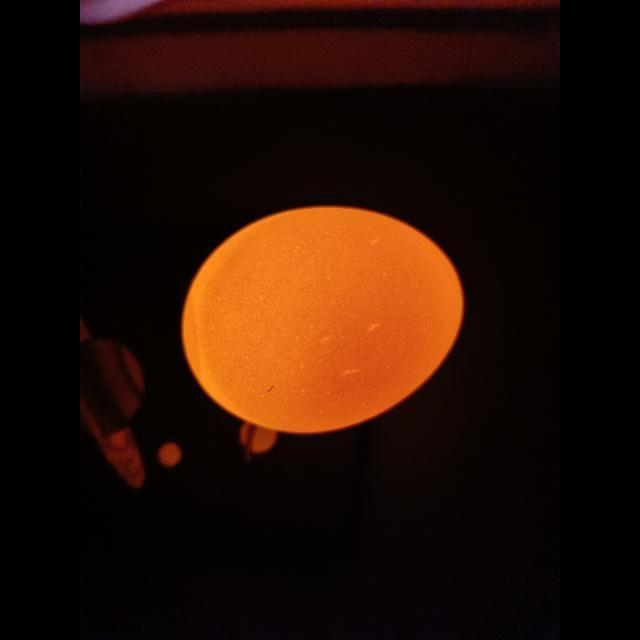AA - Premium: (183, 206, 464, 434), (304, 275, 305, 278)
